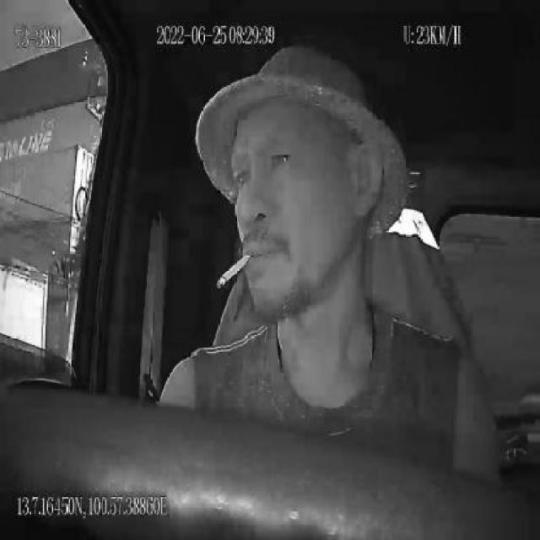smoking: (217, 248, 250, 288)
